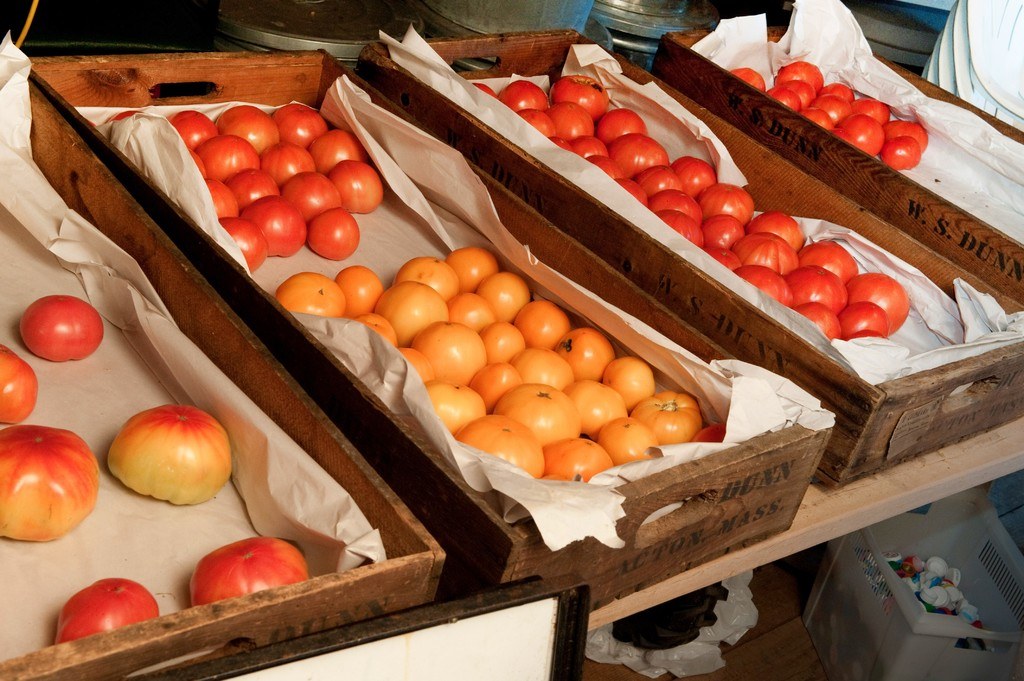Tomato: (466, 72, 910, 350), (275, 245, 720, 486), (100, 101, 380, 276), (731, 64, 926, 170), (0, 417, 101, 544), (108, 405, 230, 504), (190, 537, 302, 608), (53, 576, 158, 642), (13, 291, 100, 360), (0, 344, 35, 426)
